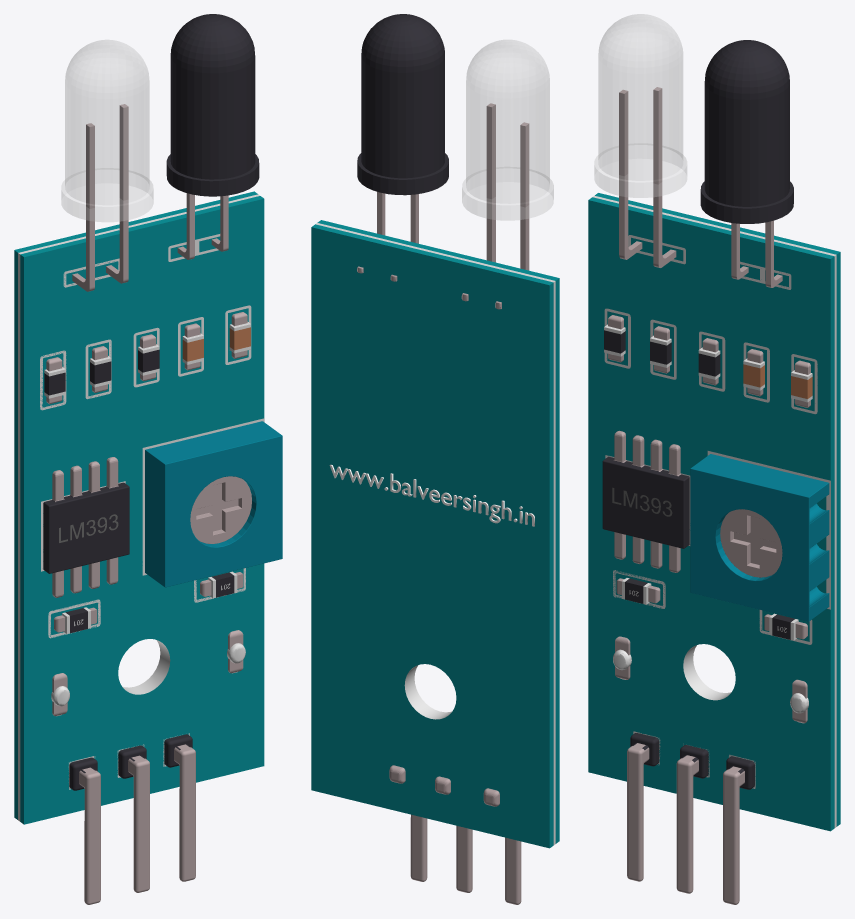
The model's file is ir_sensor.glb.
3 renders of one model, left to right at view 1: azimuth 30°, elevation 25°; view 2: azimuth 150°, elevation 25°; view 3: azimuth 330°, elevation 25°, orthographic.
Parts seen in each view (by area): view 1: IR Sensor, PotentioMeter, Transsmitter, Receiver, LM393_IC, MalePins.001, PotentioMeter.001, BC_Capacitor, OC_Capacitor, BC_Capacitor.001, BC_Capacitor.002, MalePins (+1 smaller); view 2: IR Sensor, Transsmitter, Receiver, MalePins.001, Text.011; view 3: IR Sensor, Transsmitter, PotentioMeter, Receiver, LM393_IC, MalePins.001, PotentioMeter.001, BC_Capacitor, OC_Capacitor, BC_Capacitor.002, BC_Capacitor.001, MalePins (+1 smaller).
Part boxes in pixels (x1=…): IR Sensor: x1=14, y1=191, x2=264, y2=824; PotentioMeter: x1=145, y1=421, x2=282, y2=587; Transsmitter: x1=61, y1=40, x2=153, y2=291; Receiver: x1=166, y1=14, x2=259, y2=259; LM393_IC: x1=43, y1=457, x2=129, y2=597; MalePins.001: x1=69, y1=734, x2=195, y2=904; PotentioMeter.001: x1=190, y1=476, x2=251, y2=543; BC_Capacitor: x1=44, y1=334, x2=159, y2=404; OC_Capacitor: x1=182, y1=312, x2=250, y2=370; BC_Capacitor.001: x1=200, y1=571, x2=243, y2=598; BC_Capacitor.002: x1=54, y1=607, x2=97, y2=633; MalePins: x1=52, y1=630, x2=243, y2=716; IR Sensor: x1=311, y1=220, x2=559, y2=848; Transsmitter: x1=461, y1=40, x2=553, y2=309; Receiver: x1=357, y1=14, x2=448, y2=281; MalePins.001: x1=389, y1=765, x2=521, y2=904; Text.011: x1=329, y1=464, x2=534, y2=526; IR Sensor: x1=588, y1=193, x2=840, y2=831; Transsmitter: x1=594, y1=14, x2=686, y2=267; PotentioMeter: x1=690, y1=454, x2=829, y2=621; Receiver: x1=700, y1=40, x2=793, y2=287; LM393_IC: x1=602, y1=430, x2=689, y2=572; MalePins.001: x1=627, y1=733, x2=754, y2=904; PotentioMeter.001: x1=720, y1=509, x2=782, y2=577; BC_Capacitor: x1=604, y1=315, x2=720, y2=385; OC_Capacitor: x1=743, y1=349, x2=812, y2=407; BC_Capacitor.002: x1=616, y1=578, x2=660, y2=604; BC_Capacitor.001: x1=764, y1=613, x2=807, y2=640; MalePins: x1=615, y1=636, x2=807, y2=723.
Size of the model in its own units: 0.3115 by 1.06 by 0.1167.
